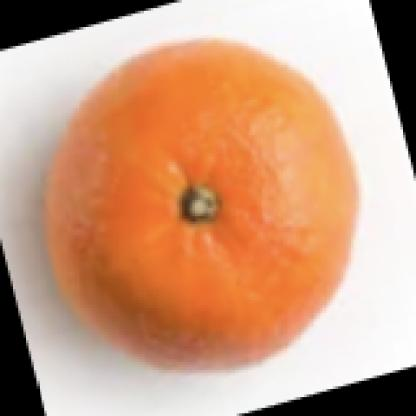fresh: (46, 40, 358, 366)
